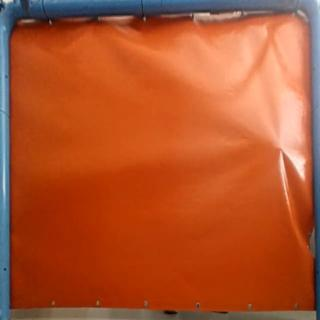Hit-hRxx: (274, 142, 290, 156)
